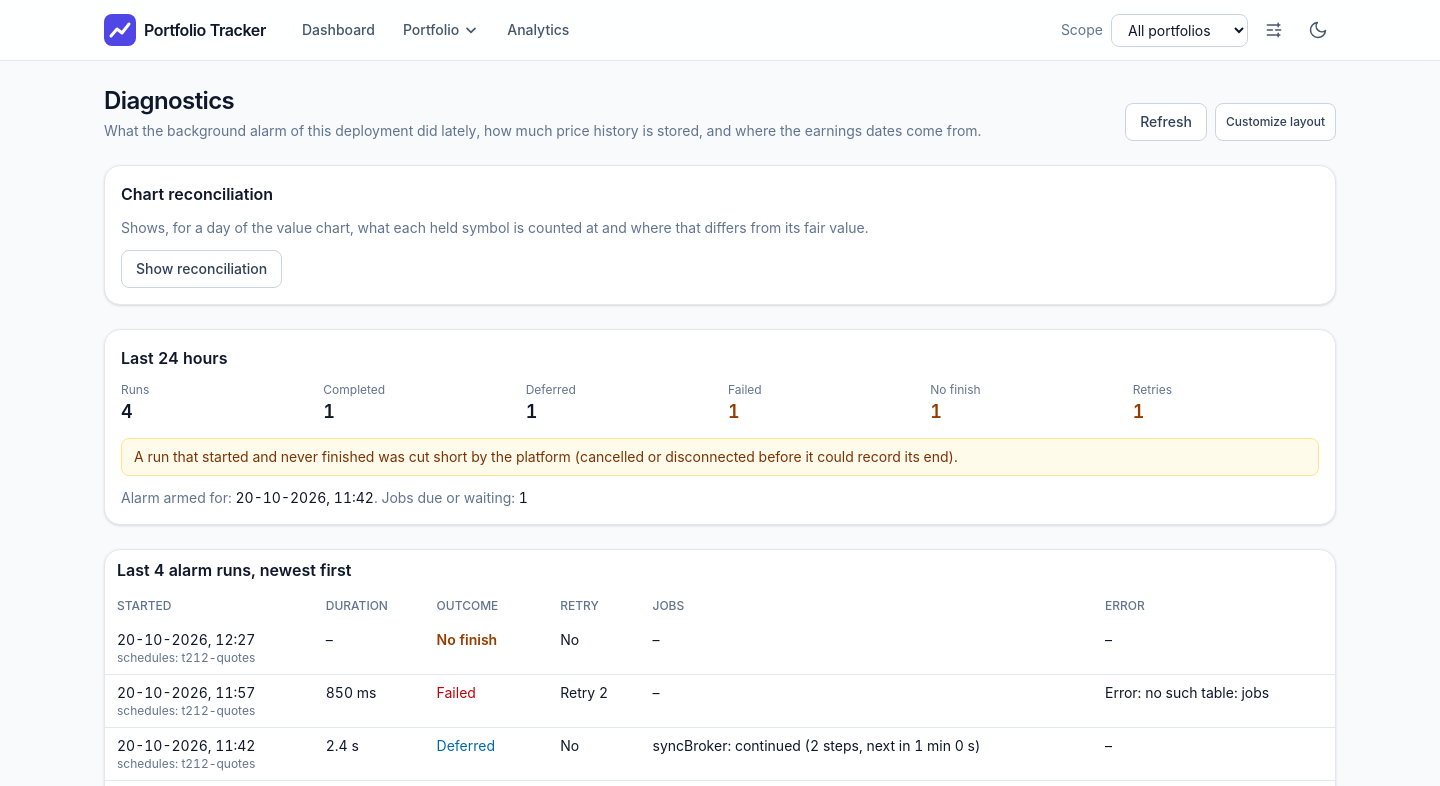
Test: Diagnostics page layout › moves the runs above the summary and hides the arms
The image size is (1440, 786).
Expected: the element "Last 24 hours" is shown, [104,329,1336,525]
Click the button "Customize layout" at (1276, 122), box [1215,103,1336,141]
(page scrolled)
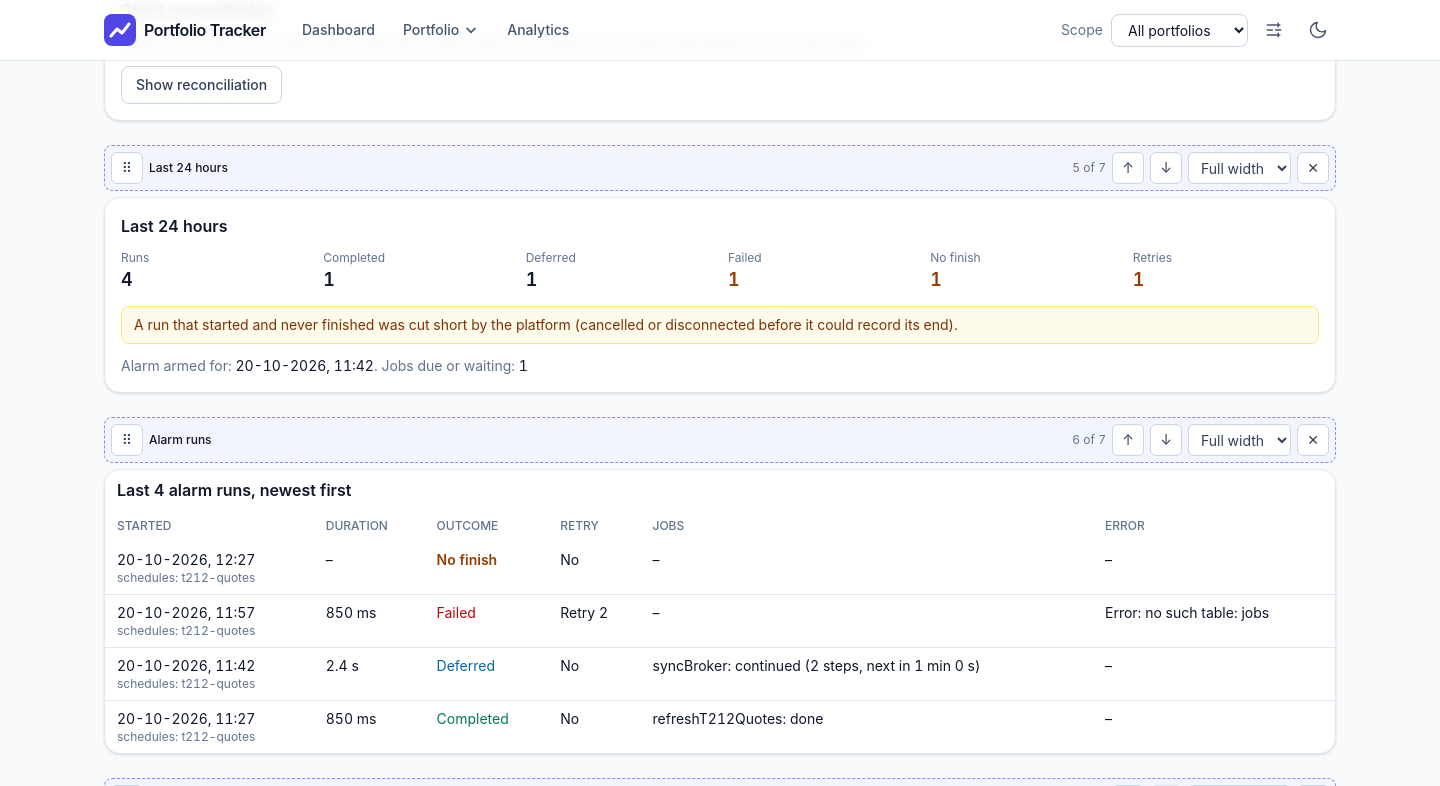
Click the button named "Move Alarm runs up" at (1128, 440), box [1112,424,1144,456]
(page scrolled)
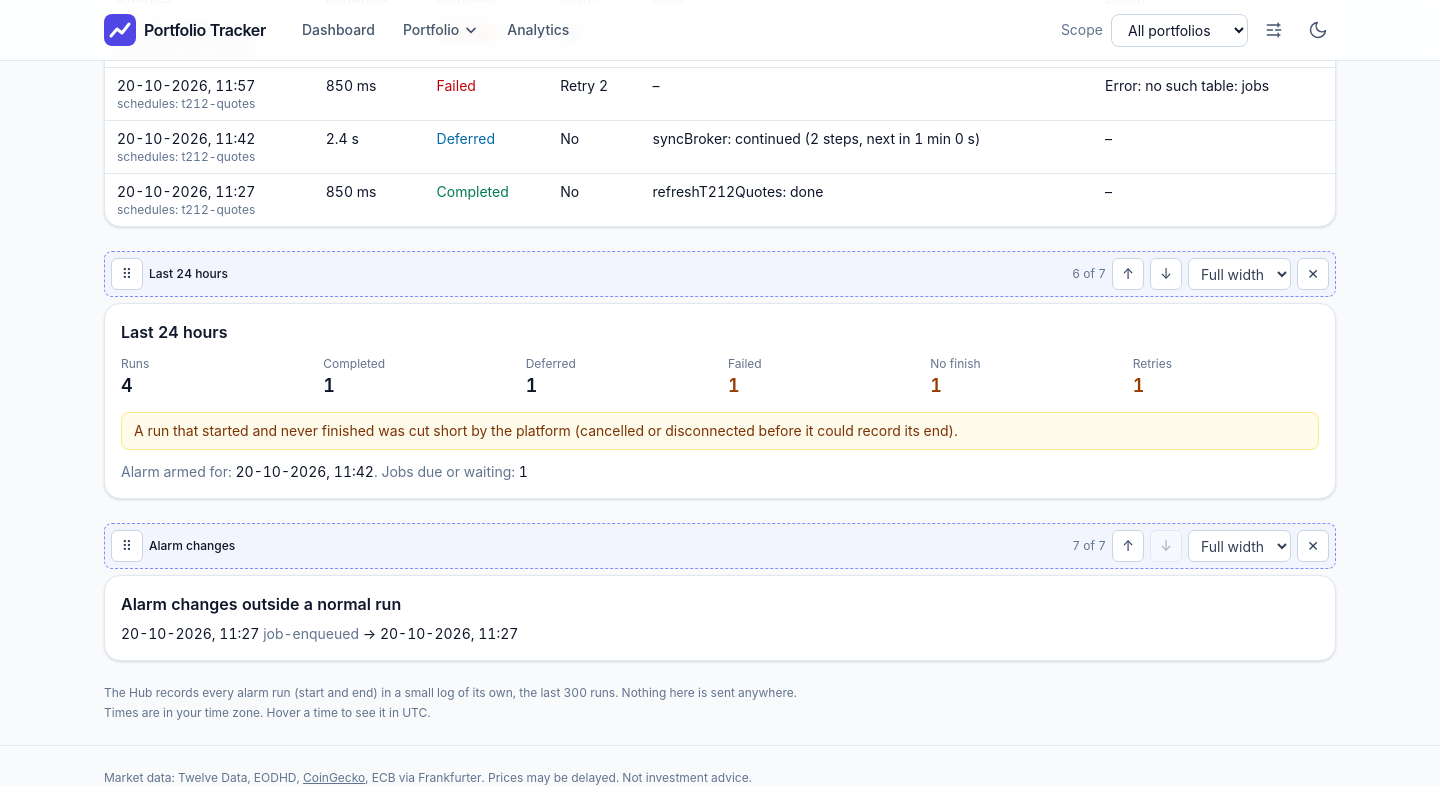
Click the button named "Hide Alarm changes" at (1313, 546), box [1297,530,1329,562]
(page scrolled)
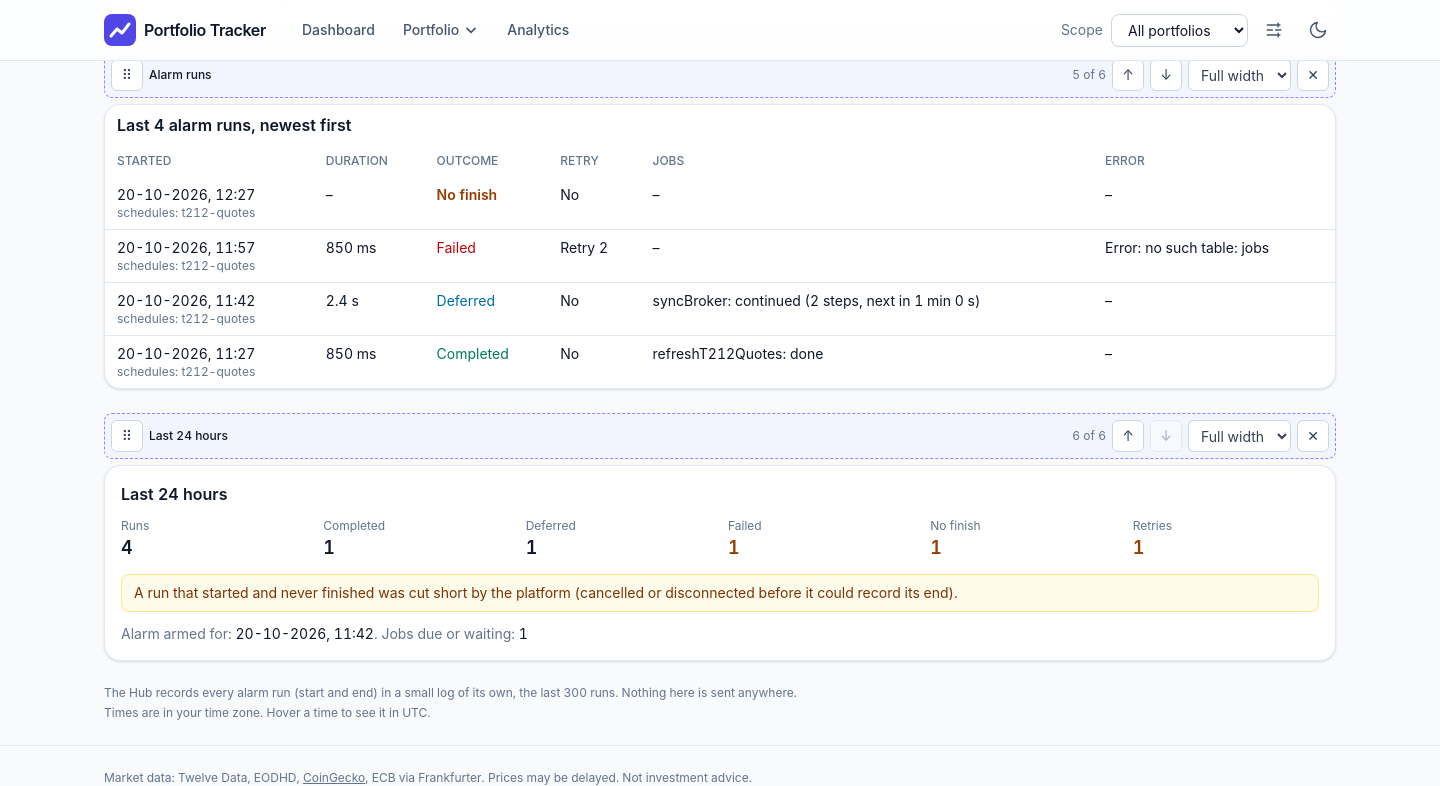
Expected: the heading "Alarm changes outside a normal run" is gone
